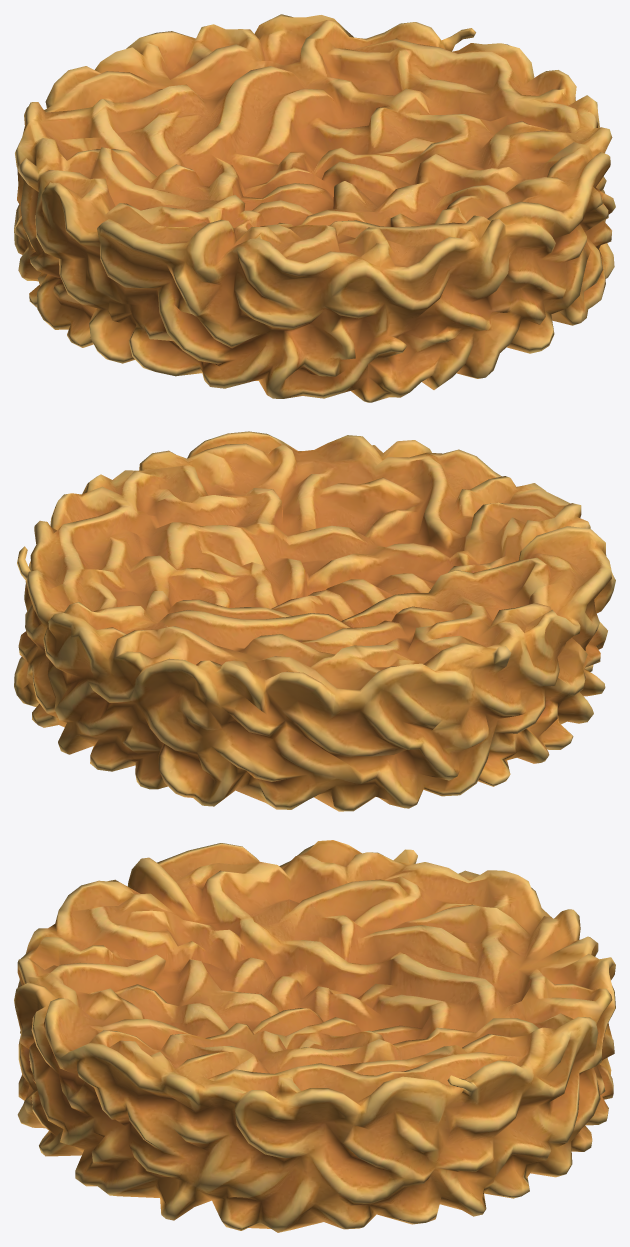
The picture shows the model from 3 angles, top to bottom: view 1: azimuth 30°, elevation 25°; view 2: azimuth 150°, elevation 25°; view 3: azimuth 270°, elevation 25°; orthographic projection. The views are drawn at different scales.
Visible parts, largest first — view 1: Instant Noodle Block; view 2: Instant Noodle Block; view 3: Instant Noodle Block.
Part boxes in pixels (bbox=[...]): Instant Noodle Block: bbox=[14, 14, 615, 402]; Instant Noodle Block: bbox=[14, 431, 615, 811]; Instant Noodle Block: bbox=[14, 840, 615, 1232].
Bounding box in the file's own units: 0.998 × 0.3027 × 0.998.
1 material, 1 textured.
